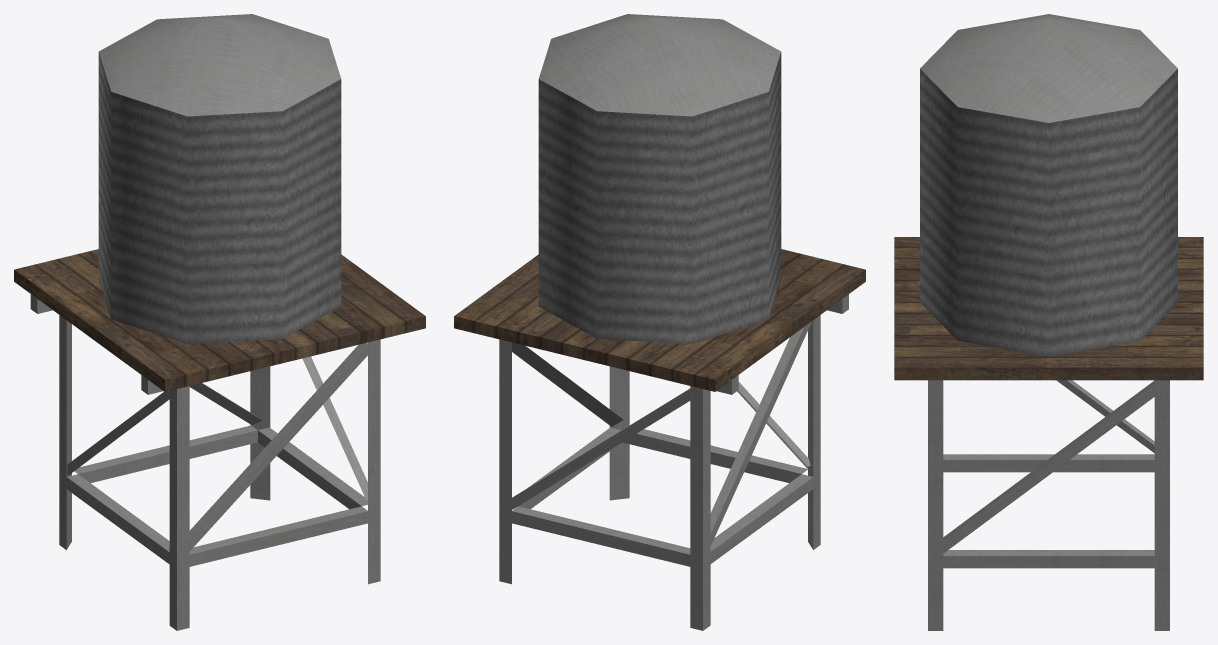
File: water-tank-stand-2x2-cbj_LOD02.gltf
3 views of the same model, side by side, from view 1: azimuth 30°, elevation 25°; view 2: azimuth 150°, elevation 25°; view 3: azimuth 270°, elevation 25° (orthographic). The views are drawn at different scales.
Parts seen in each view (by area): view 1: tank2; view 2: tank2; view 3: tank2.
Part boxes in pixels (bbox=[...]): tank2: bbox=[14, 14, 425, 630]; tank2: bbox=[454, 14, 865, 630]; tank2: bbox=[894, 14, 1203, 630].
Bounding box in the file's own units: 1.8 × 3.58 × 1.8.
